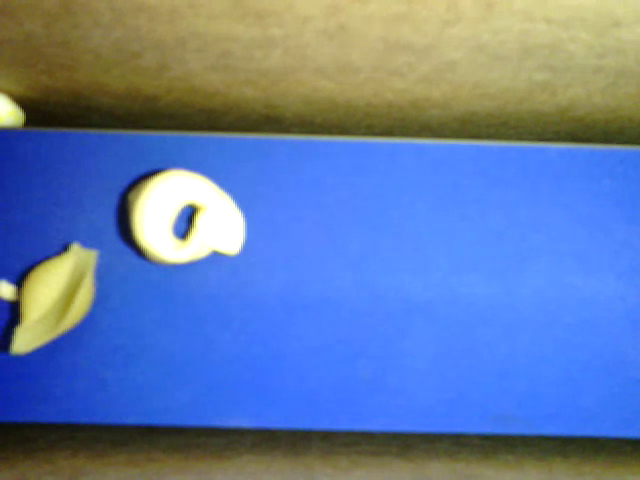shell: (10, 241, 99, 354)
tortellini: (128, 169, 244, 267)
